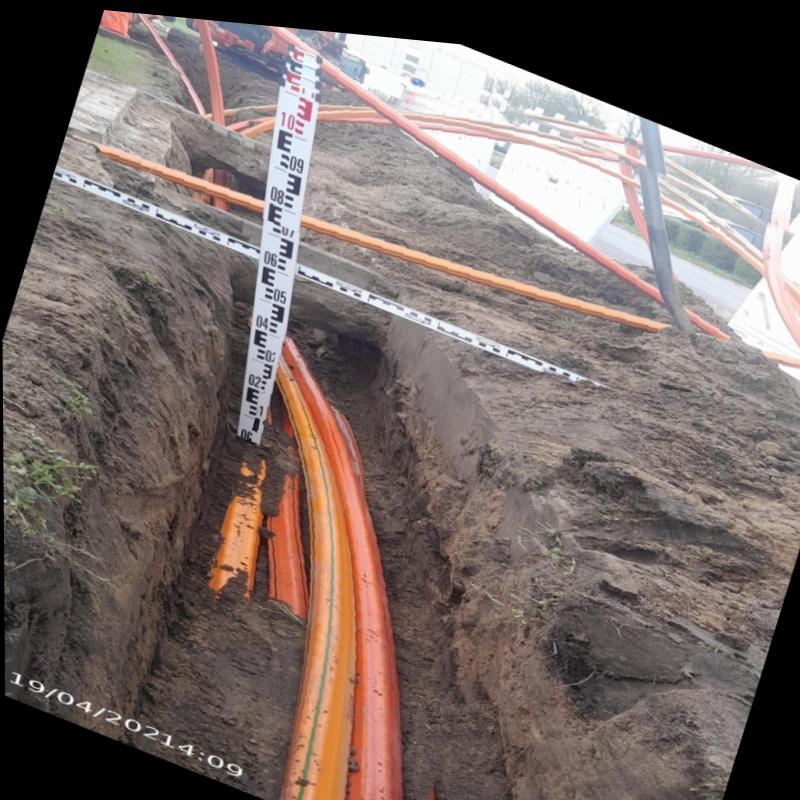Orang-Speednetrohrchen: (107, 148, 800, 345), (319, 95, 800, 321), (211, 331, 405, 800)
